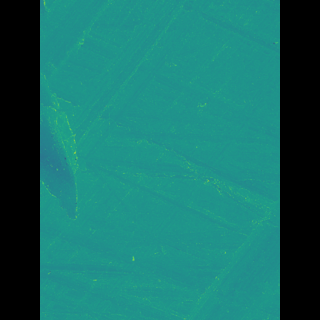Loch: (97, 0, 198, 193), (179, 198, 248, 319), (69, 62, 100, 221)
